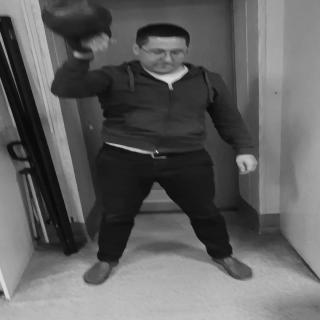girya: (43, 1, 117, 54)
